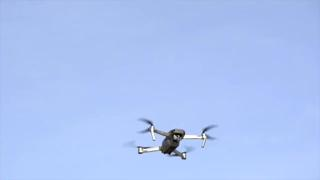UAV: (125, 118, 220, 160)
